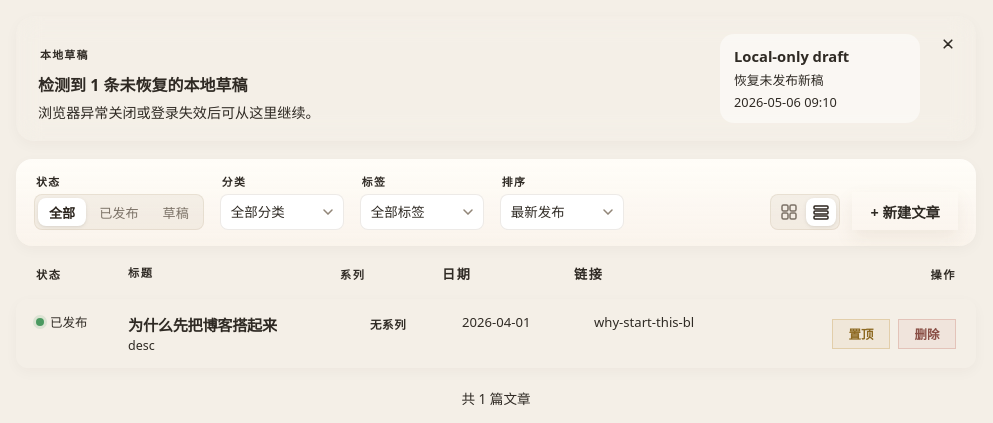
it: post dashboard › dismisses the recoverable local draft panel from the top-right close button
This screenshot has width=993, height=423.
Expected: the text "检测到 1 条未恢复的本地草稿" is shown, [38,74,248,96]
Click the button named "关闭本地草稿提示" at (948, 44), box [932,28,964,60]
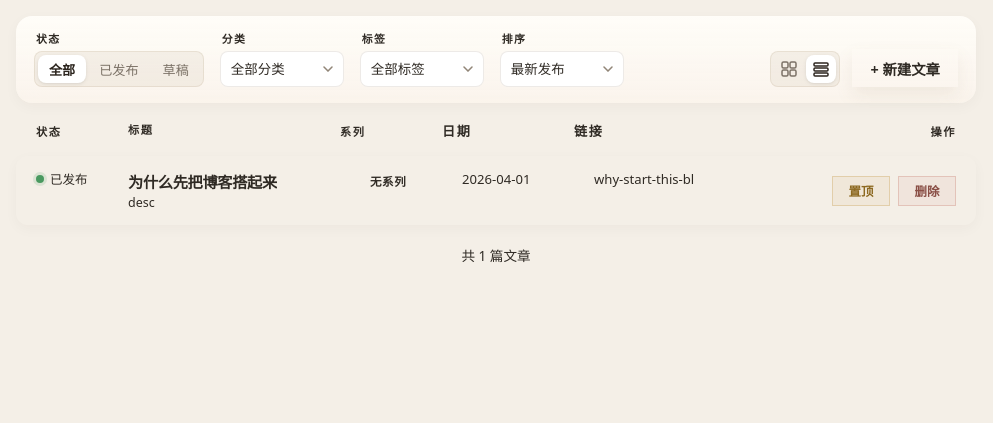
Now the text "检测到 1 条未恢复的本地草稿" is gone
